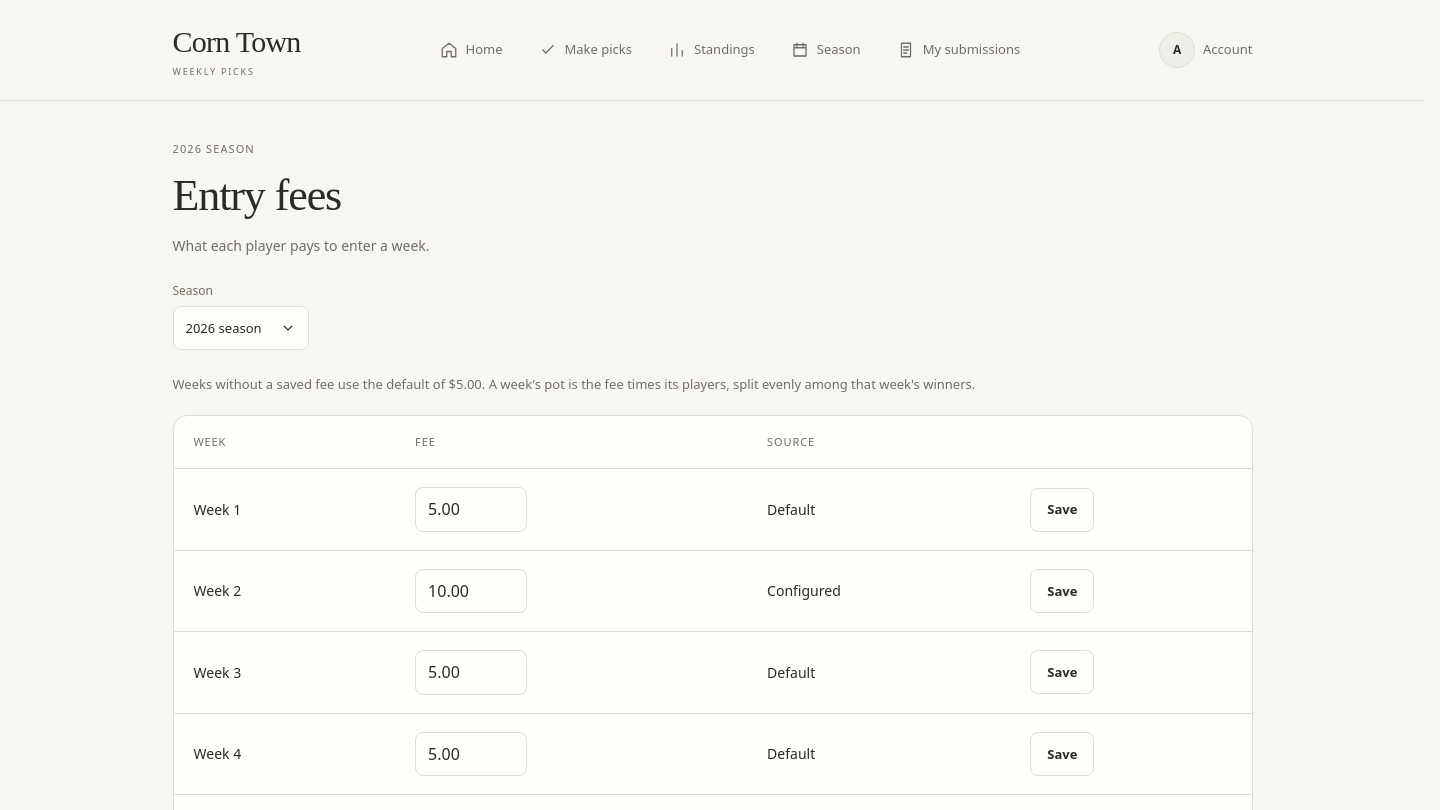
Test: entry fee administration page › shows a server validation failure without changing the table
This screenshot has width=1440, height=810.
Clear the 3rd number field named "Week 3 fee in dollars" at (471, 672), box [415,650,527,695]
(page scrolled)
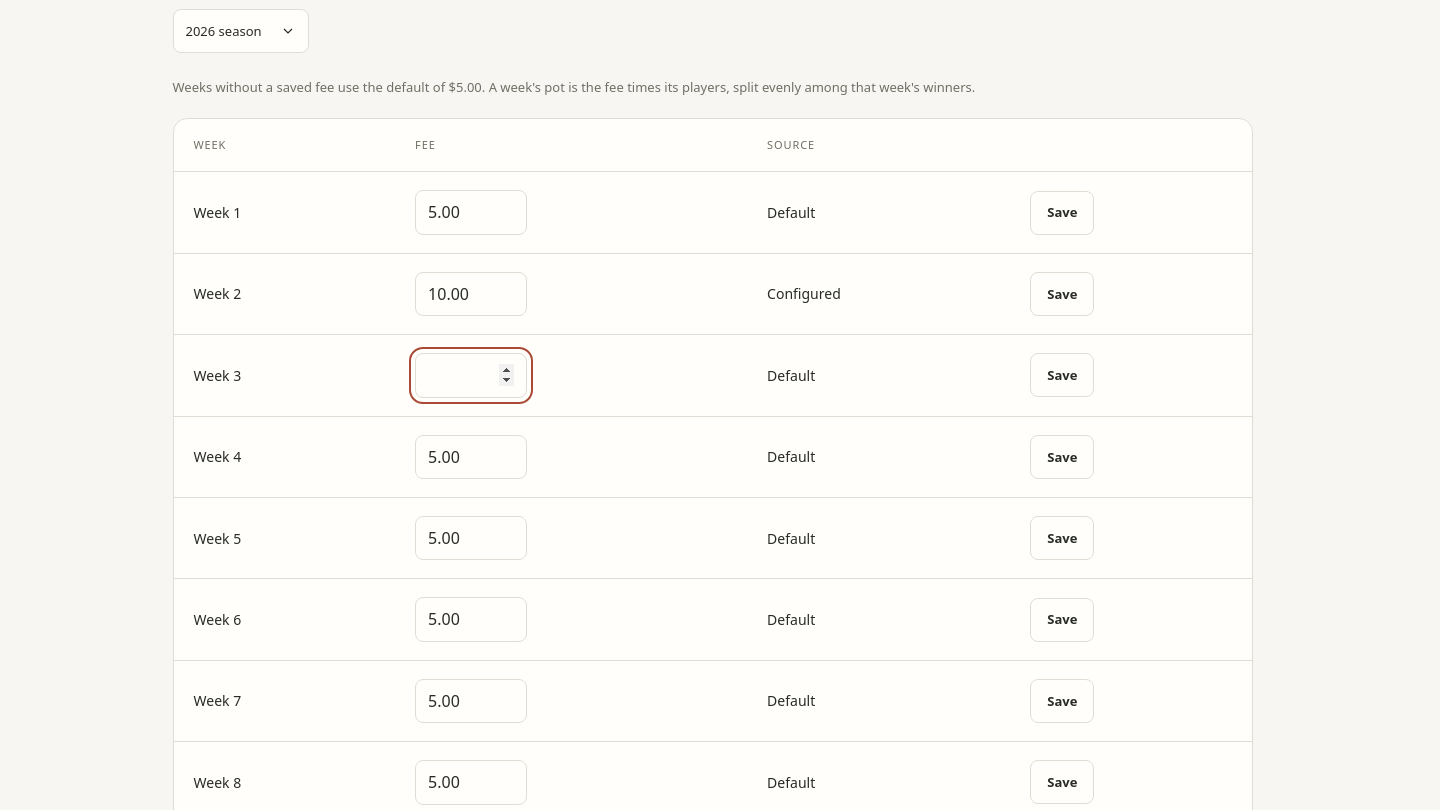
Type "9.99" into the 3rd number field named "Week 3 fee in dollars" at (471, 375), box [415,353,527,398]
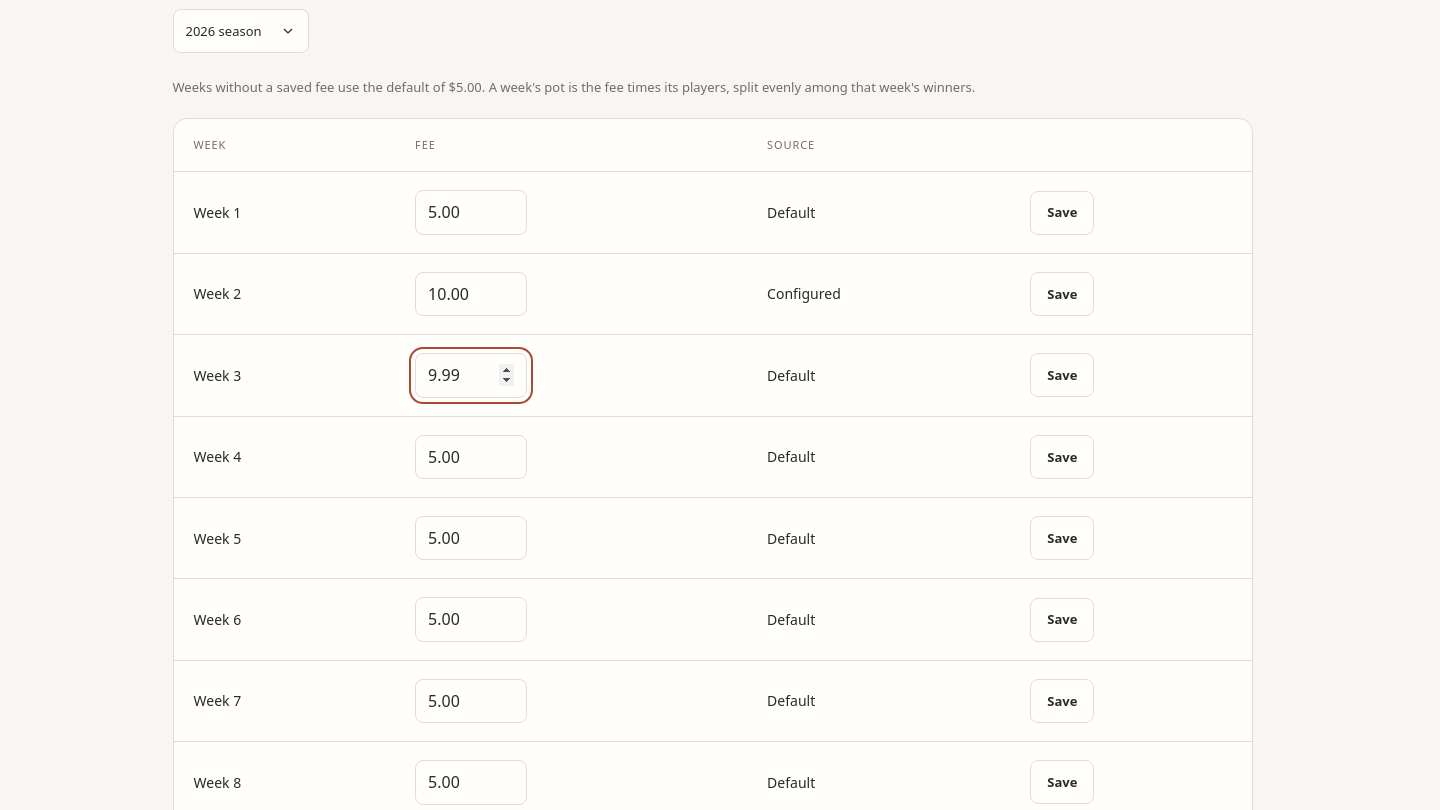
Click the button named "Save Week 3 fee" at (1062, 375), box [1030,353,1094,397]
(page scrolled)
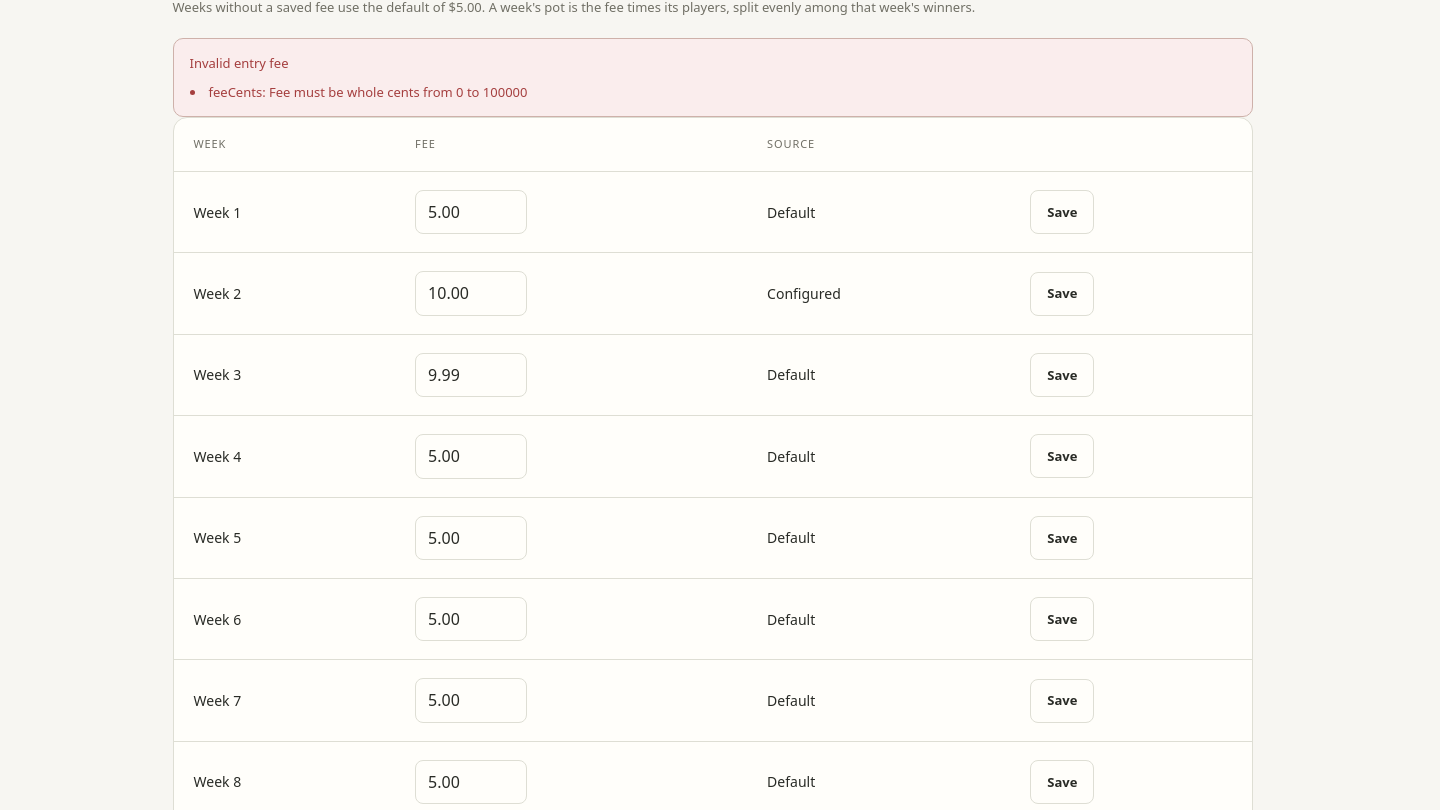
expect the row "Week 3 Default Save" is shown: met, box [174,334,1252,416]
expect the message shows "Invalid entry fee": met, box [190,54,288,72]
expect the message shows "feeCents: Fee must be whole cents": met, box [172,38,1252,118]
